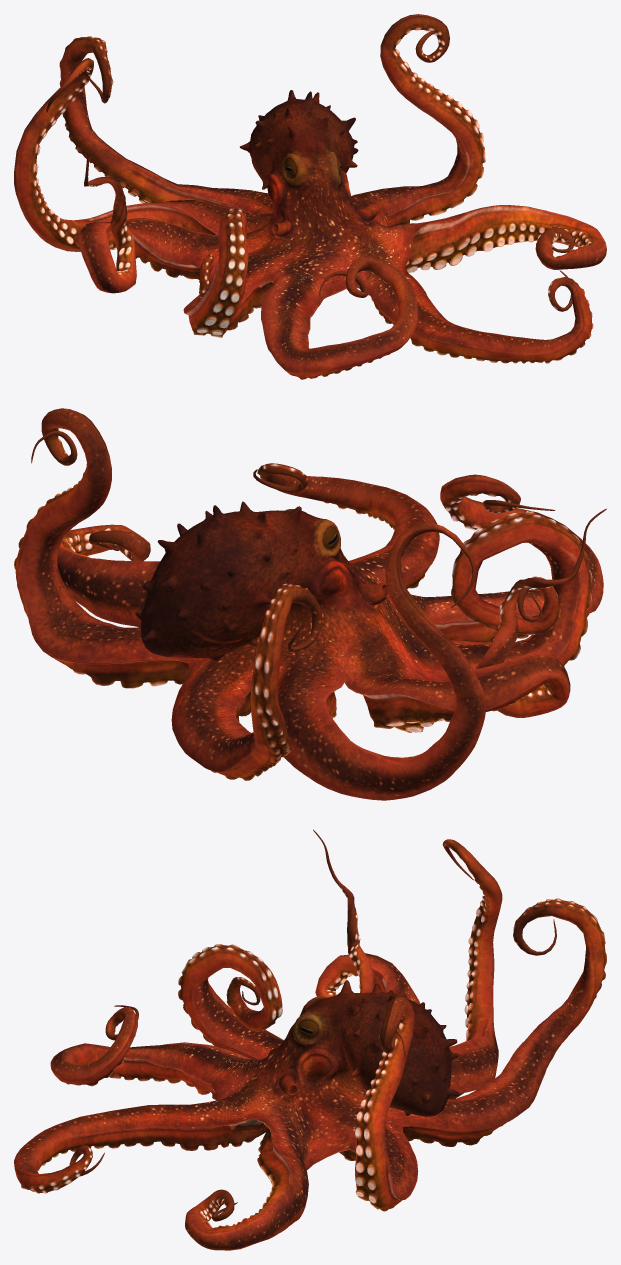
The model's file is octopus.glb.
3 renders of one model, top to bottom at view 1: azimuth 30°, elevation 25°; view 2: azimuth 150°, elevation 25°; view 3: azimuth 270°, elevation 25°, orthographic. The views are drawn at different scales.
Parts seen in each view (by area): view 1: octopus.1_1; view 2: octopus.1_1; view 3: octopus.1_1.
Part boxes in pixels (x1,y1,x2,y2): octopus.1_1: (14, 14, 606, 379); octopus.1_1: (14, 408, 606, 800); octopus.1_1: (14, 829, 606, 1250).
Size of the model in its own units: 0.0778 by 0.0334 by 0.0828.
Materials: 1 (1 with a texture image).
